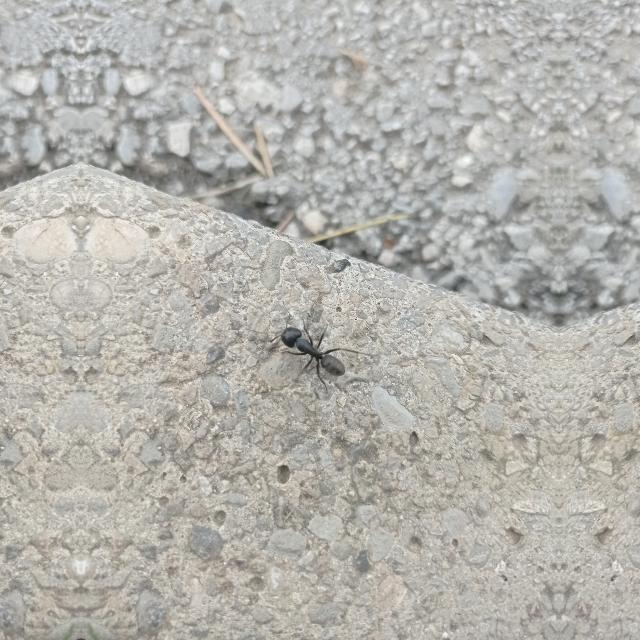Camponotus: (272, 311, 356, 381)
